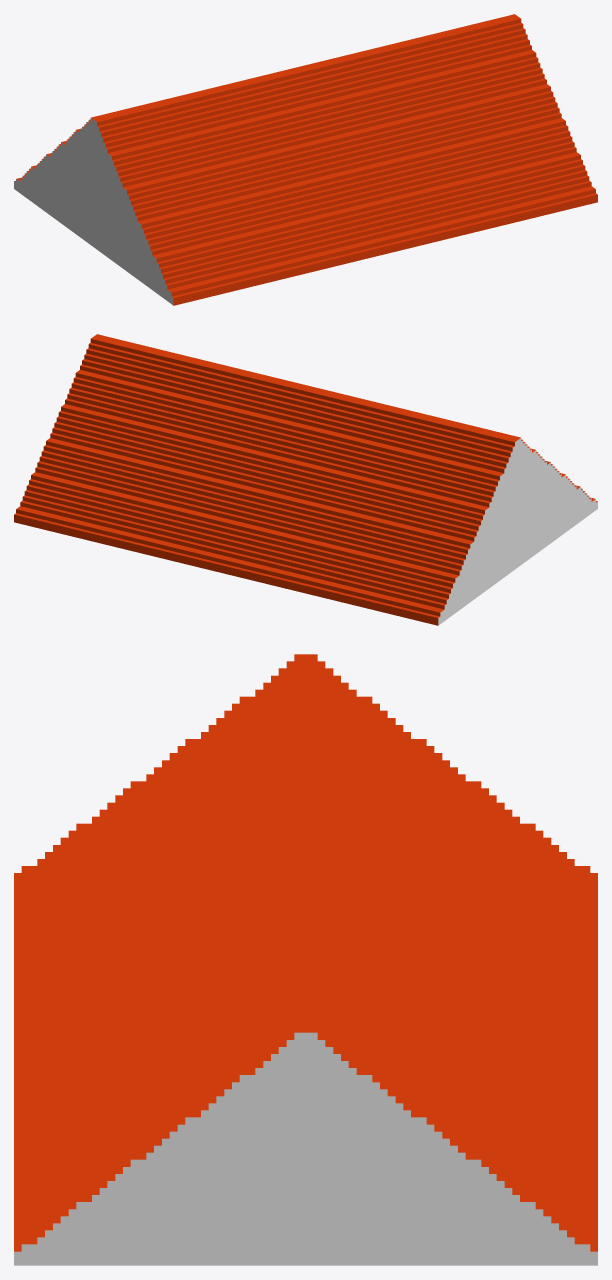
File: Roofs.fbx
3 renders of one model, top to bottom at view 1: azimuth 30°, elevation 25°; view 2: azimuth 150°, elevation 25°; view 3: azimuth 270°, elevation 25°, orthographic. The views are drawn at different scales.
Parts seen in each view (by area): view 1: Roofs; view 2: Roofs; view 3: Roofs.
Boxes of the visible parts, x1,y1,x2,y2 form: Roofs: (14,14,597,305); Roofs: (14,334,597,625); Roofs: (14,654,597,1265).
Bounding box in the file's own units: 309 × 88.75 × 202.
